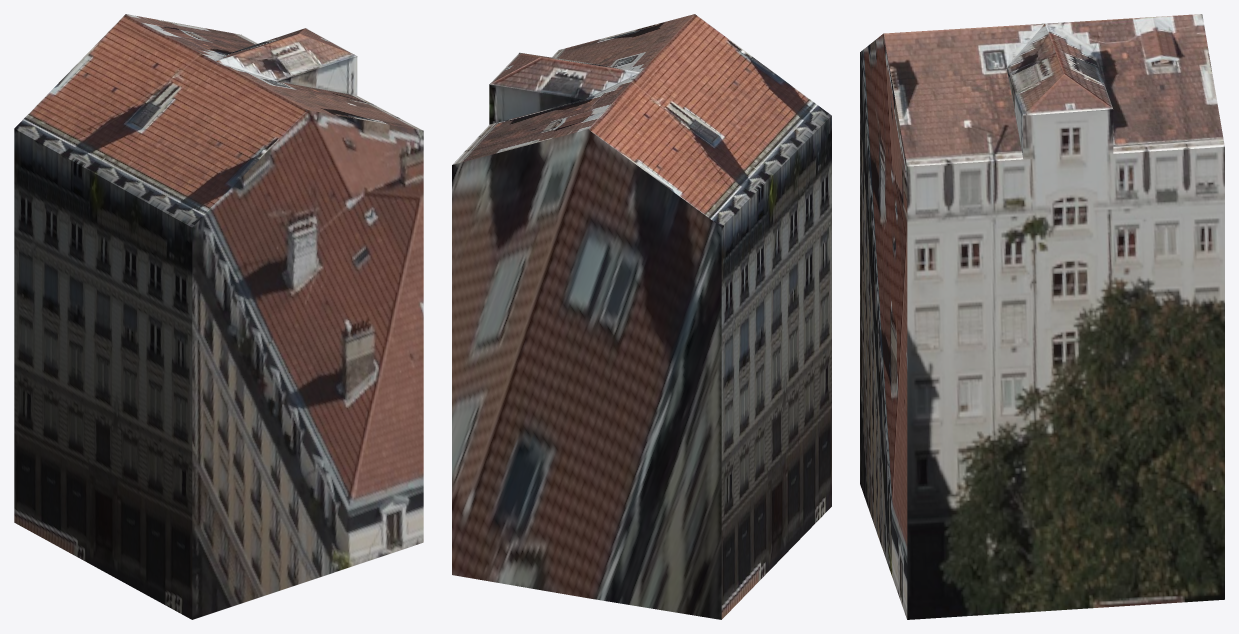
3 renders of one model, left to right at view 1: azimuth 30°, elevation 25°; view 2: azimuth 150°, elevation 25°; view 3: azimuth 270°, elevation 25°, orthographic. The views are drawn at different scales.
Visible parts, largest first — view 1: Z_UP; view 2: Z_UP; view 3: Z_UP.
Boxes of the visible parts, x1,y1,x2,y2 form: Z_UP: [14, 14, 423, 619]; Z_UP: [452, 14, 831, 619]; Z_UP: [860, 14, 1224, 619].
Bounding box in the file's own units: 17.38 × 27.29 × 17.4.
Materials: 2 (1 with a texture image).
